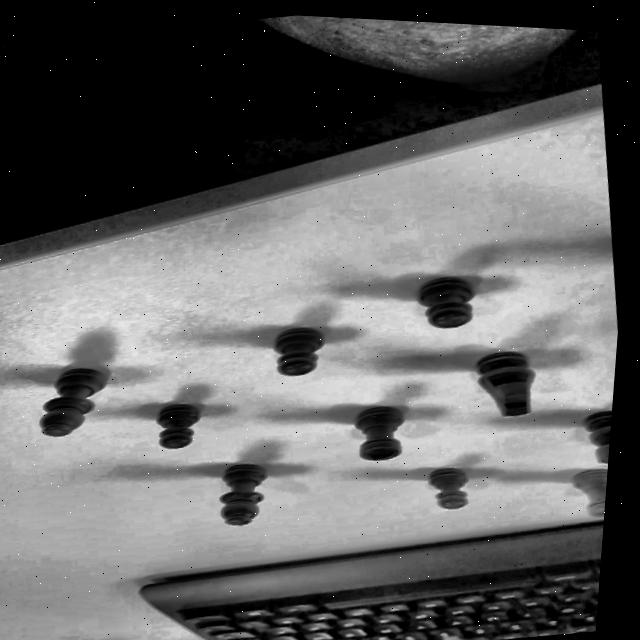black-bishop: (19, 354, 128, 453), (187, 446, 292, 540)
black-knight: (447, 338, 555, 432), (558, 406, 612, 474)
black-pawn: (397, 261, 492, 341), (256, 312, 348, 387), (139, 388, 227, 461), (413, 457, 487, 524)
black-rook: (343, 393, 423, 472), (560, 461, 608, 527)
